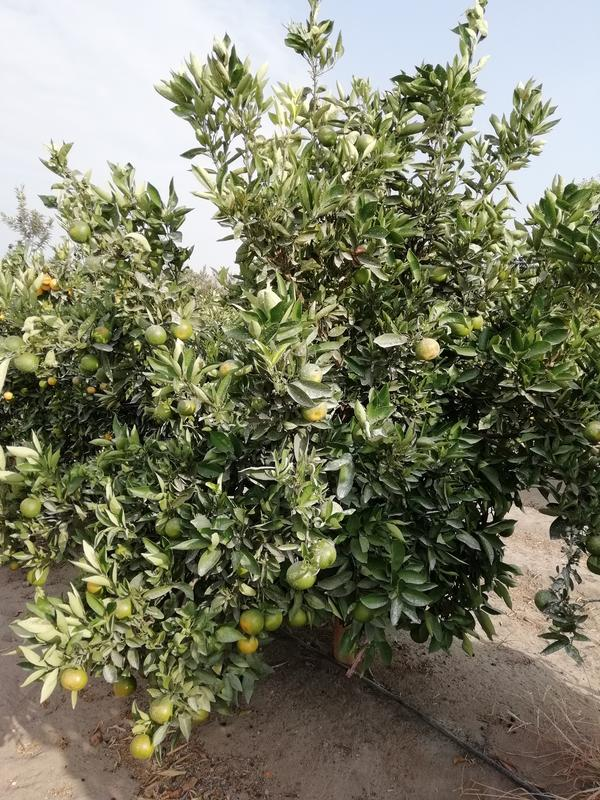mandarina verde: (286, 561, 316, 590), (308, 539, 337, 568), (130, 734, 154, 760), (60, 668, 88, 690), (149, 698, 172, 723), (241, 610, 264, 635), (415, 338, 440, 361), (299, 363, 323, 385), (14, 352, 39, 373), (302, 400, 327, 421), (68, 220, 91, 242), (113, 675, 137, 696), (144, 325, 167, 346), (20, 498, 41, 518), (237, 635, 259, 654), (219, 359, 242, 377), (318, 126, 338, 146), (264, 608, 282, 630), (173, 321, 193, 340), (354, 602, 373, 621), (177, 398, 196, 416), (583, 421, 600, 441), (80, 354, 100, 370), (357, 134, 373, 150), (587, 534, 600, 553)
